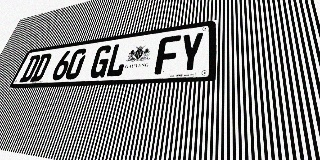0: (63, 48, 88, 80)
6: (50, 50, 74, 80)
D: (29, 53, 53, 82), (19, 54, 42, 82)
F: (154, 35, 181, 75)
G: (88, 44, 113, 78)
L: (104, 42, 130, 77)
Y: (177, 32, 204, 73)
